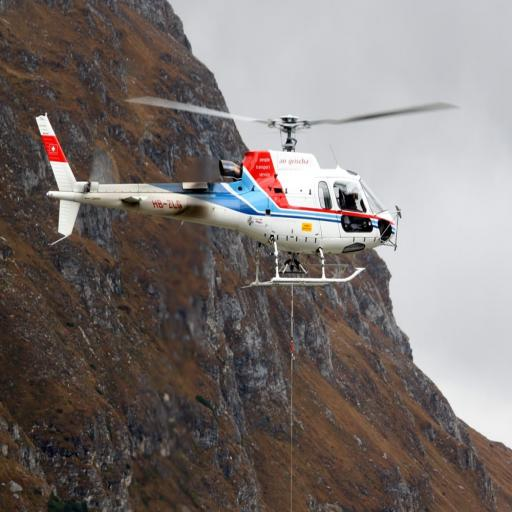helicopter: (34, 99, 459, 280)
